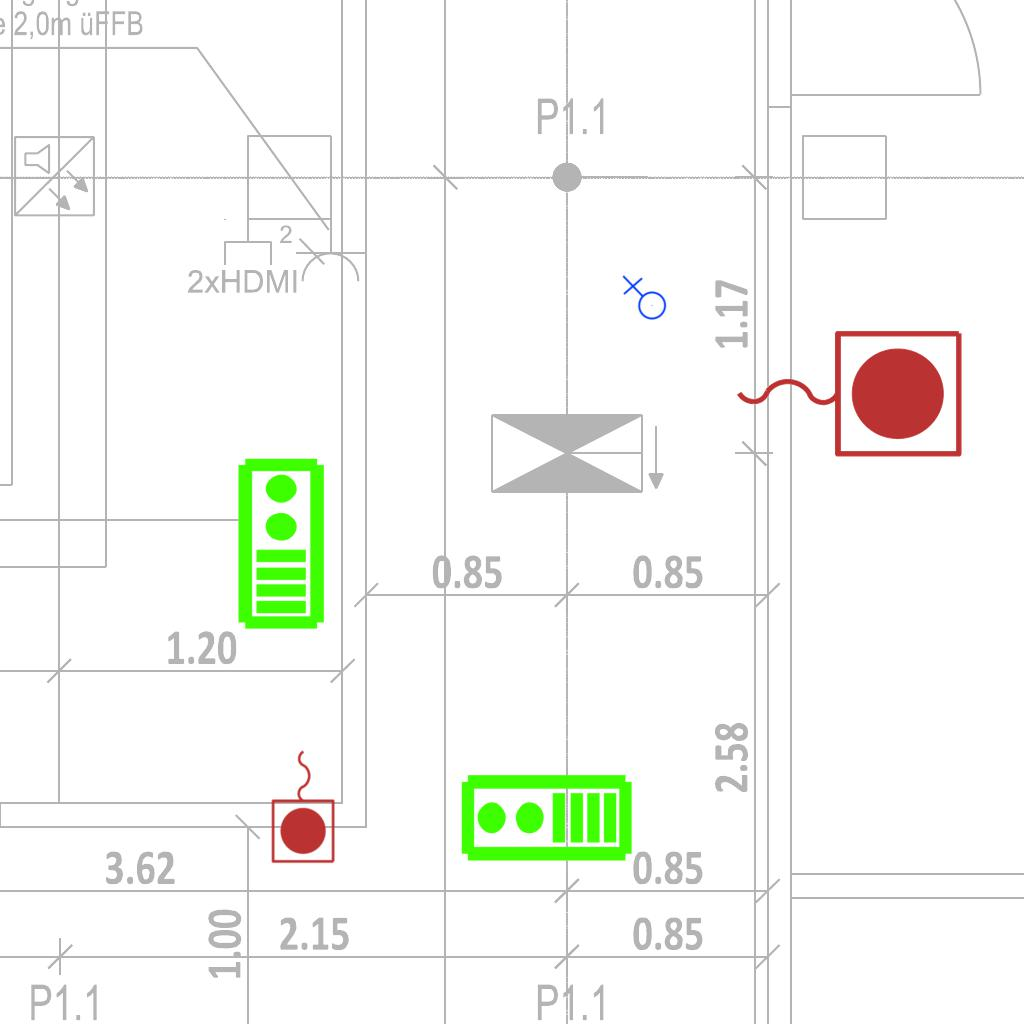Elektroanschluss_allgemein_230V_Geraeteanschlussdose_230V: (620, 275, 667, 324)
Gegensprechanlage_mit_Video: (232, 455, 327, 631), (458, 772, 634, 867)
Zugtaster: (726, 320, 970, 464), (268, 745, 340, 867)
